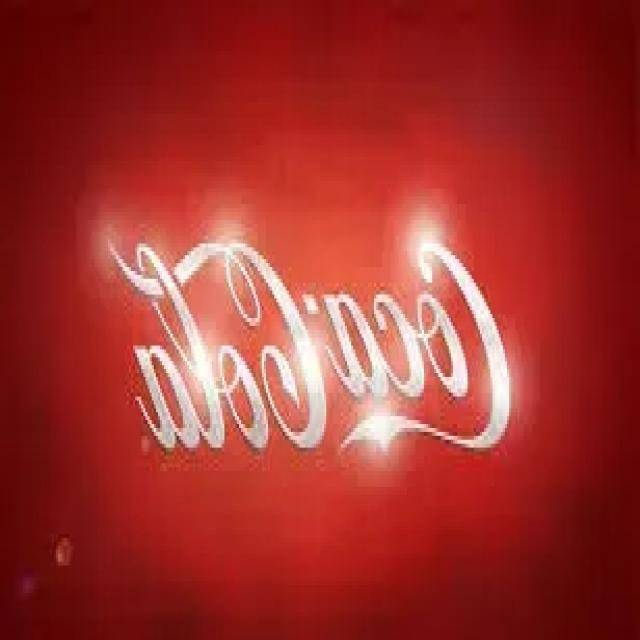coca cola: (96, 232, 517, 465)
